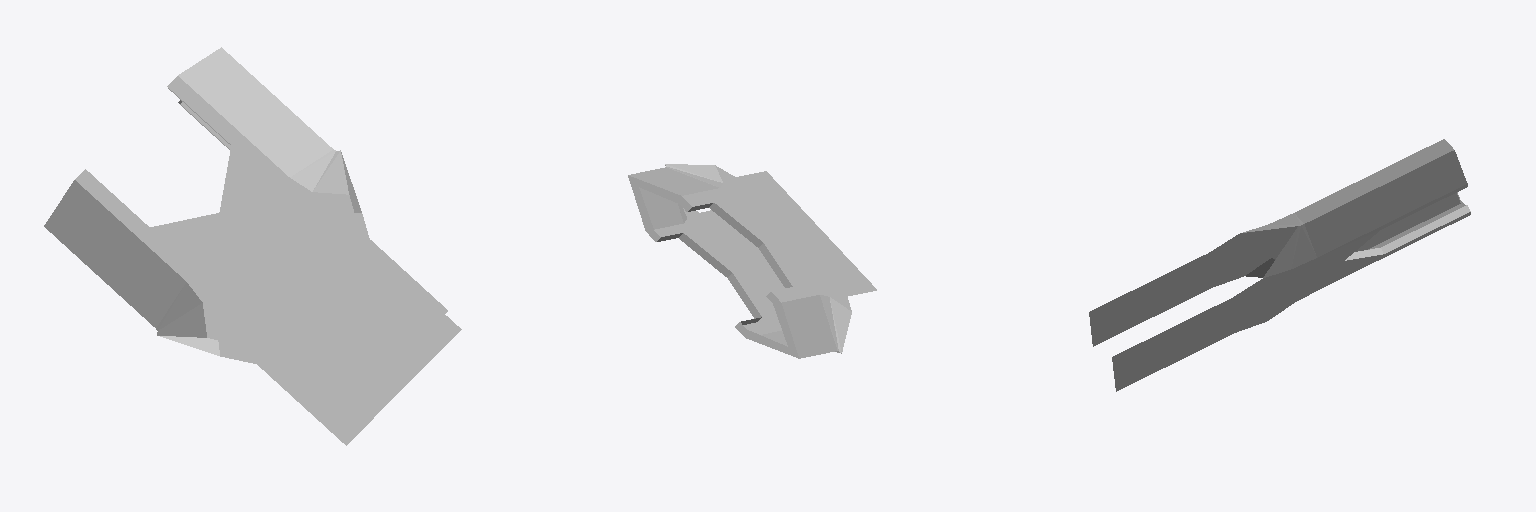
Rendered from Hilt_low_Hilt_low_0.obj.
The picture shows the model from 3 angles: view 1: azimuth 30°, elevation 25°; view 2: azimuth 150°, elevation 25°; view 3: azimuth 270°, elevation 25°; orthographic projection.
Parts seen in each view (by area): view 1: Hilt_low_Hilt_low_0; view 2: Hilt_low_Hilt_low_0; view 3: Hilt_low_Hilt_low_0.
Boxes of the visible parts, box(x1,y1,x2,y2) form: Hilt_low_Hilt_low_0: box(44, 47, 461, 445); Hilt_low_Hilt_low_0: box(628, 164, 876, 358); Hilt_low_Hilt_low_0: box(1089, 139, 1470, 391).
Bounding box in the file's own units: 0.0703 × 0.0728 × 0.0955.